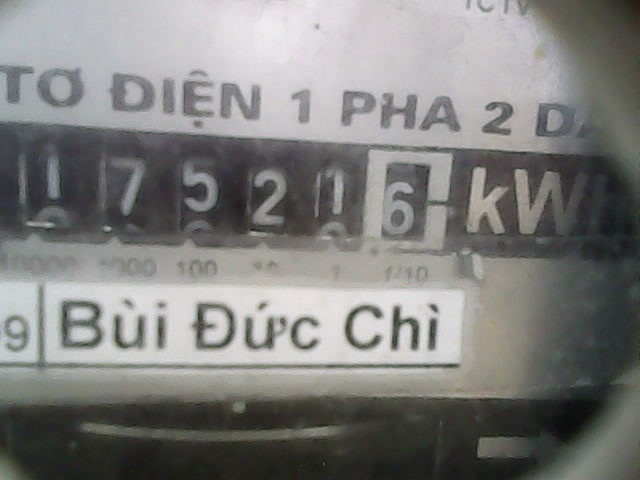phy_plate: (3, 118, 460, 260)
